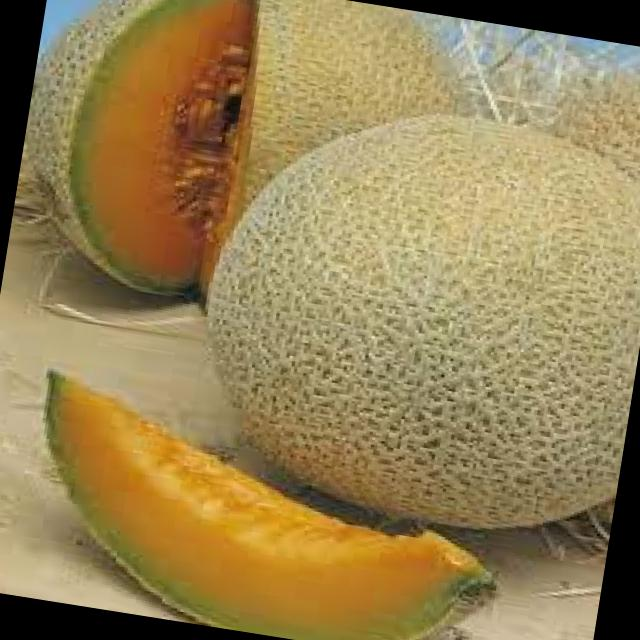cantaloupe: (182, 85, 640, 551), (6, 0, 458, 334), (15, 368, 521, 640)
